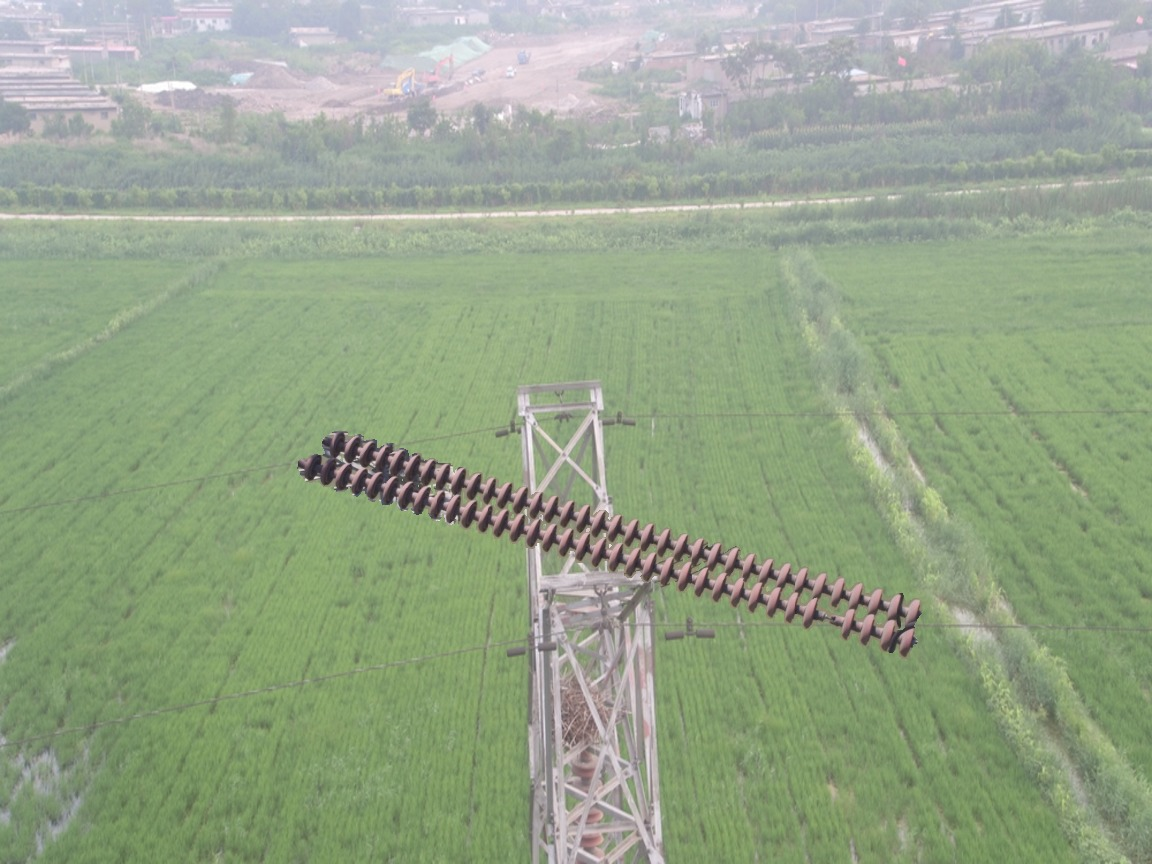defect: (797, 597, 863, 642)
